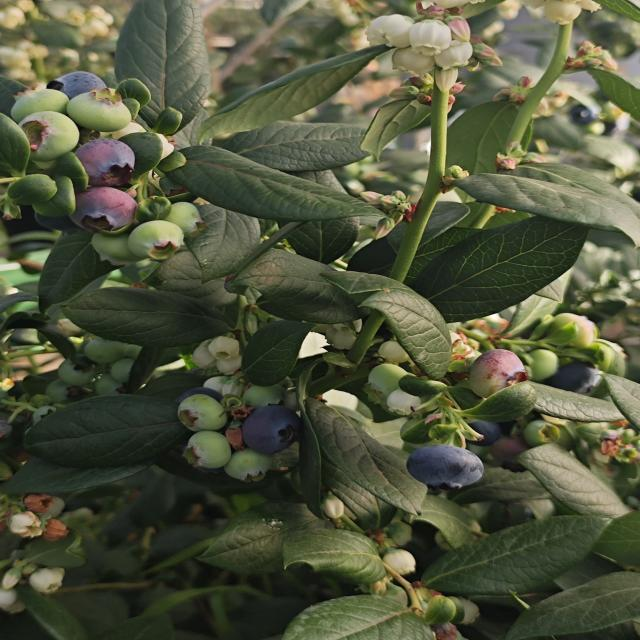ripe: (401, 443, 491, 492), (235, 398, 307, 456), (449, 405, 521, 453), (41, 66, 114, 108), (541, 356, 606, 399), (172, 382, 230, 424)
